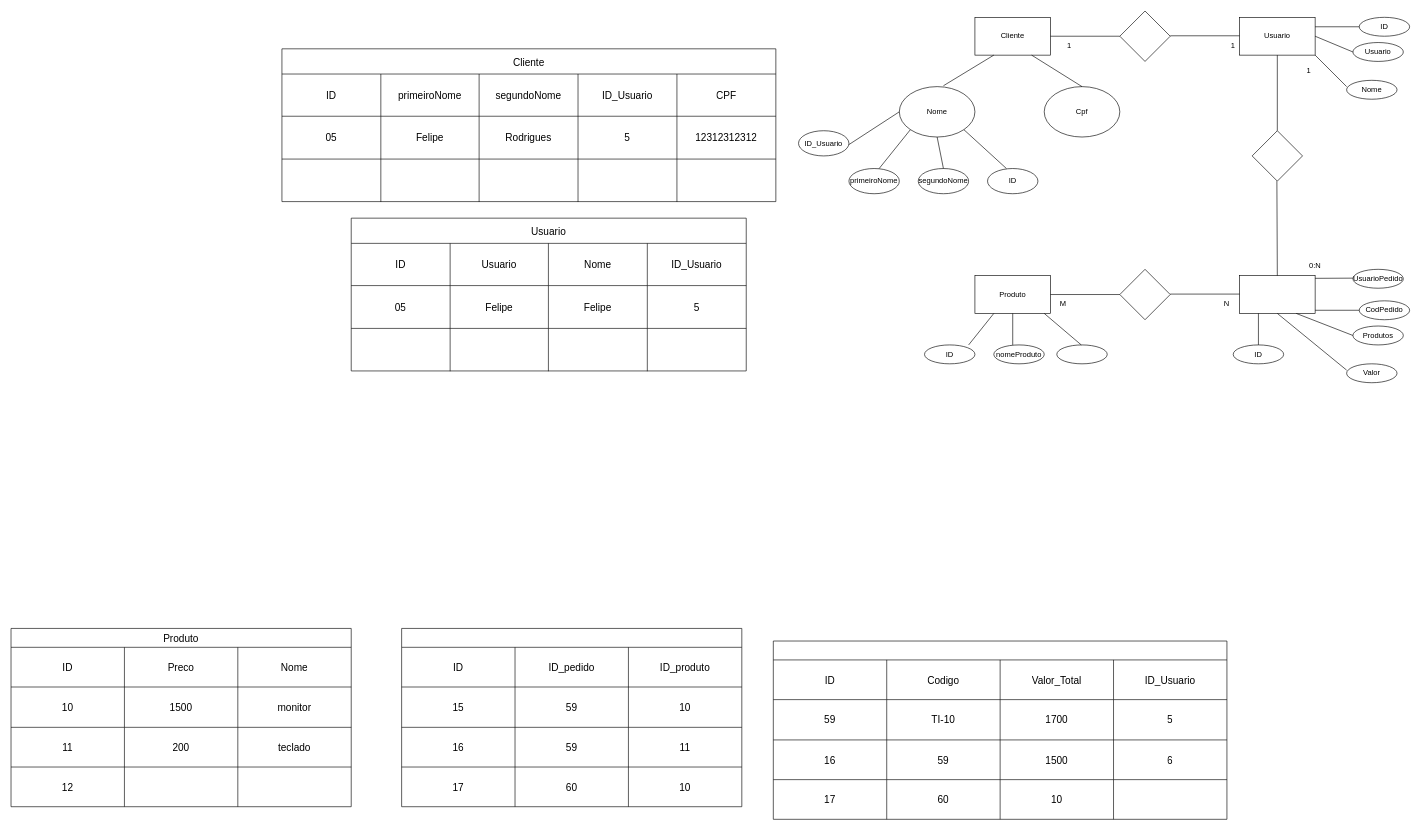
This 1421x830 diagram has some shape labels left out. Each missing label, with the box of its shape:
cadastro: (1119, 10, 1170, 61)
Contem: (1119, 269, 1170, 320)
Faz: (1251, 130, 1303, 181)
Pedido: (1239, 275, 1315, 313)
pedidos: (773, 640, 1227, 819)
produto_pedido: (401, 628, 742, 807)
valorProduto: (1056, 344, 1107, 364)
